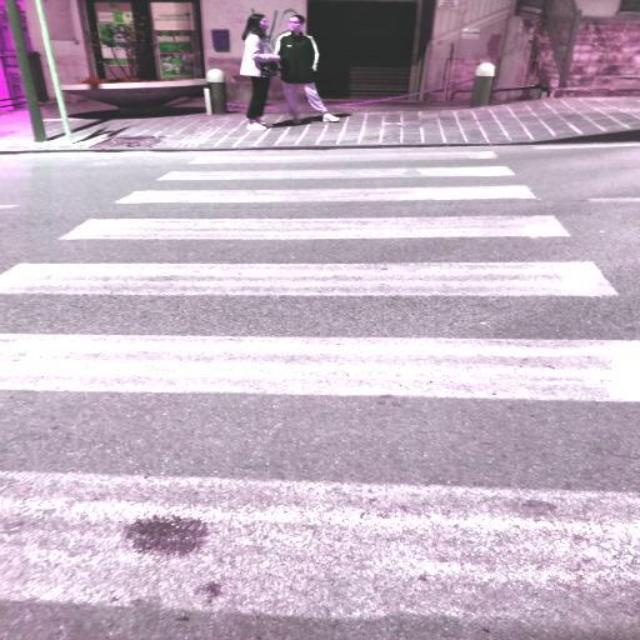sidewalk: (0, 140, 640, 640)
